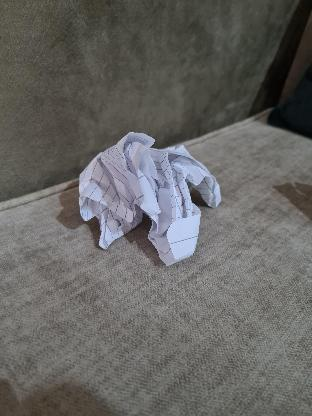Paper: (76, 130, 219, 264)
